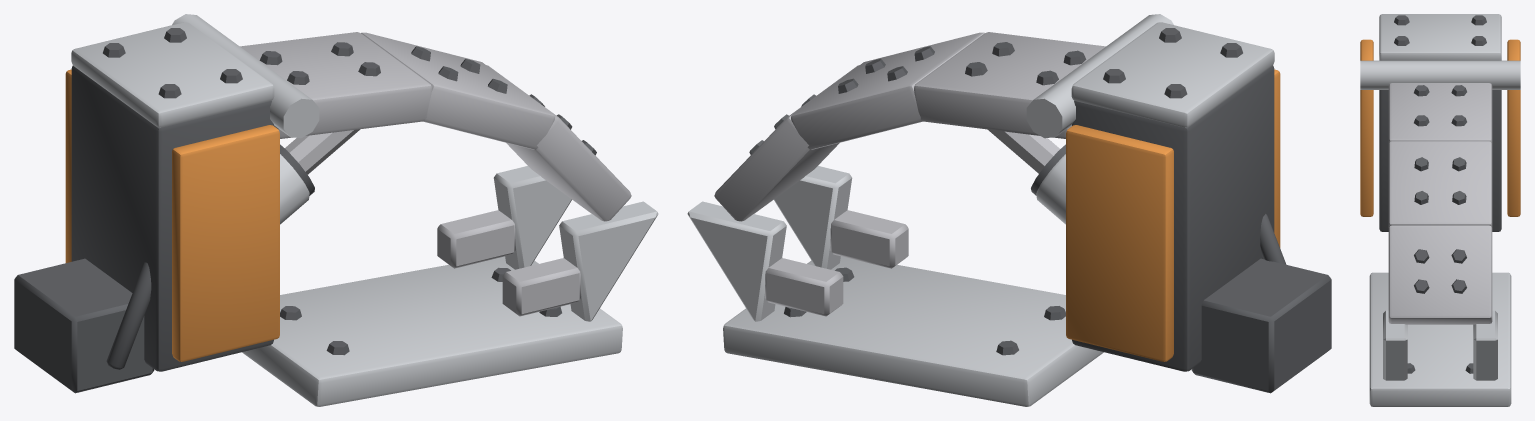
File: crusher.glb
3 renders of one model, left to right at view 1: azimuth 30°, elevation 25°; view 2: azimuth 150°, elevation 25°; view 3: azimuth 270°, elevation 25°, orthographic. The views are drawn at different scales.
Visible parts, largest first — view 1: mount, body; view 2: mount, body; view 3: body, mount.
Boxes of the visible parts, x1,y1,x2,y2 form: mount: (14, 14, 622, 406); body: (240, 32, 658, 321); mount: (723, 14, 1331, 406); body: (687, 32, 1105, 321); body: (1383, 83, 1497, 380); mount: (1360, 14, 1520, 406).
Size of the model in its own units: 0.4882 by 0.2872 by 0.17.
